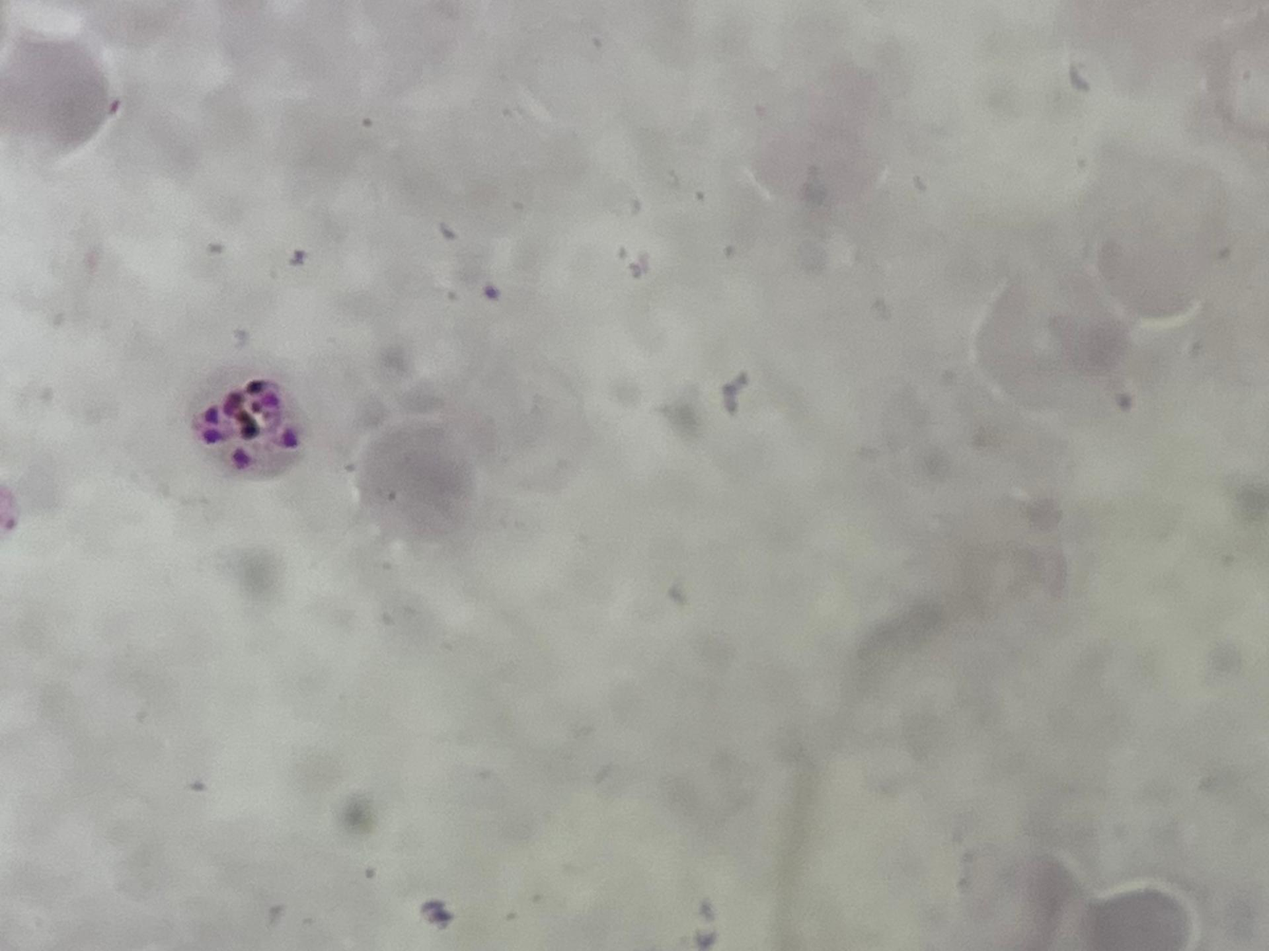Infected: (181, 371, 308, 486)
